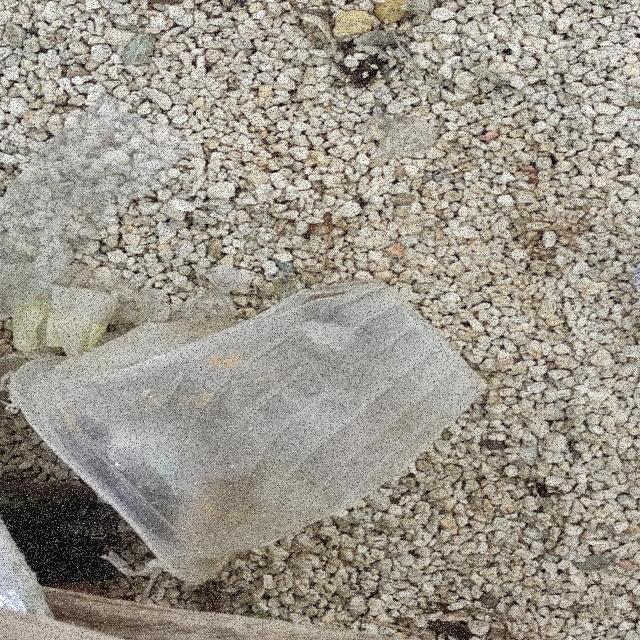plastic_waste: (7, 278, 494, 587)
